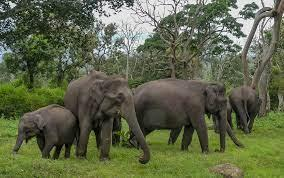elephant: (14, 71, 258, 163)
